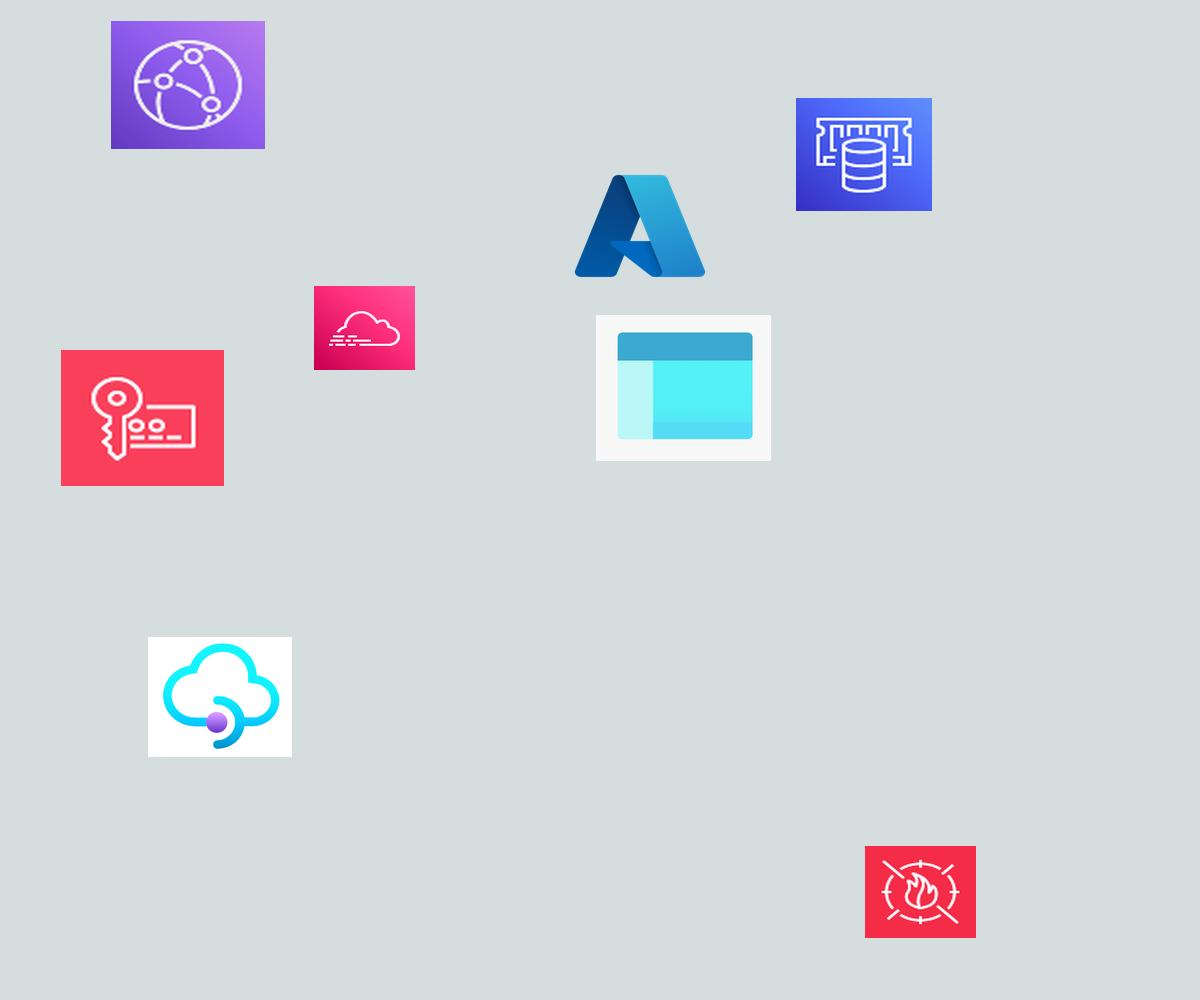AWS-CloudFront: (111, 21, 265, 149)
AWS-CloudTrail: (314, 286, 415, 370)
AWS-ElastiCache: (796, 98, 932, 211)
AWS-Key-Management-Service: (61, 350, 224, 486)
AWS-WAF: (865, 846, 976, 938)
Azure_api_gateway: (148, 637, 292, 757)
Azure_management-portal: (596, 315, 771, 461)
Azure_services: (569, 167, 711, 285)
